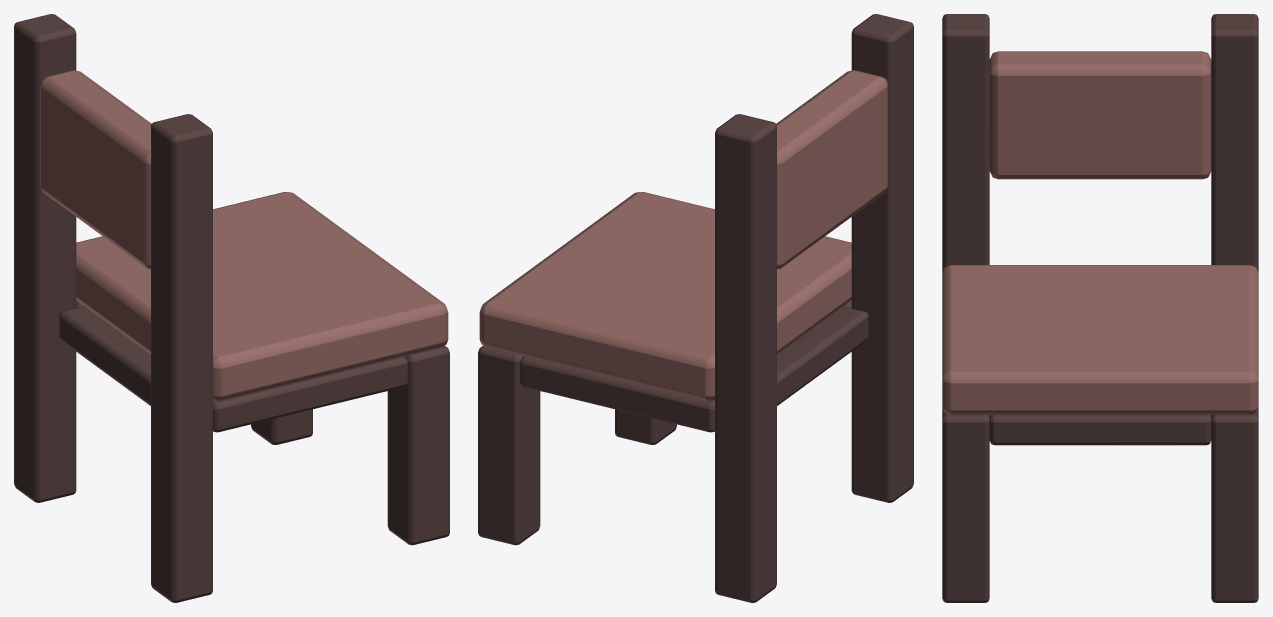
Rendered from ChairBlockout_RB.fbx.
The picture shows the model from 3 angles, left to right: view 1: azimuth 30°, elevation 25°; view 2: azimuth 150°, elevation 25°; view 3: azimuth 270°, elevation 25°; orthographic projection.
Visible parts, largest first — view 1: ChairBlockout_RB; view 2: ChairBlockout_RB; view 3: ChairBlockout_RB.
Boxes of the visible parts, x1,y1,x2,y2 form: ChairBlockout_RB: (14,14,449,602); ChairBlockout_RB: (478,14,913,602); ChairBlockout_RB: (942,14,1258,602).
Bounding box in the file's own units: 140 × 224 × 140.
